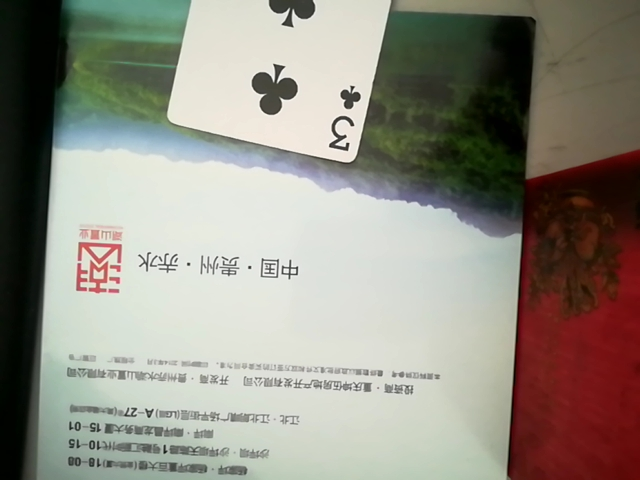mh 3: (155, 0, 405, 166)
